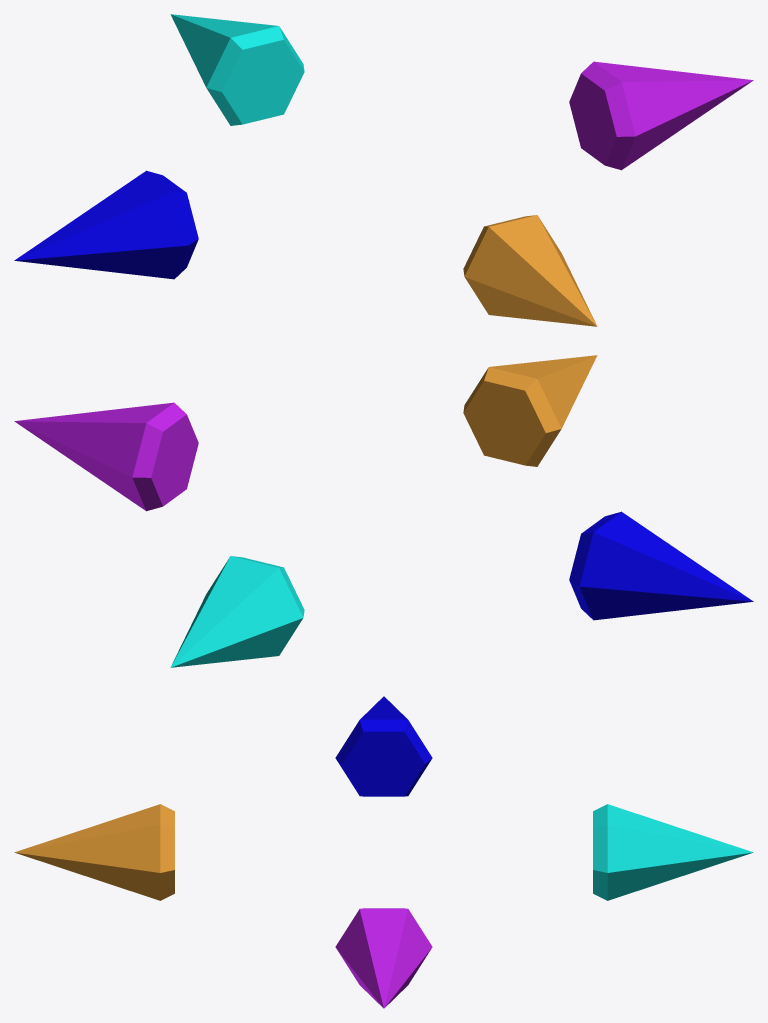
The model's file is corn 1.fbx.
3 renders of one model, top to bottom at view 1: azimuth 30°, elevation 25°; view 2: azimuth 150°, elevation 25°; view 3: azimuth 270°, elevation 25°, orthographic. The views are drawn at different scales.
Visible parts, largest first — view 1: 円錐.001; view 2: 円錐.001; view 3: 円錐.001.
Boxes of the visible parts, x1=… form: 円錐.001: x1=14, y1=14, x2=753, y2=326; 円錐.001: x1=14, y1=355, x2=753, y2=667; 円錐.001: x1=14, y1=696, x2=753, y2=1008.
Bounding box in the file's own units: 1.05 × 0.1197 × 1.05.
